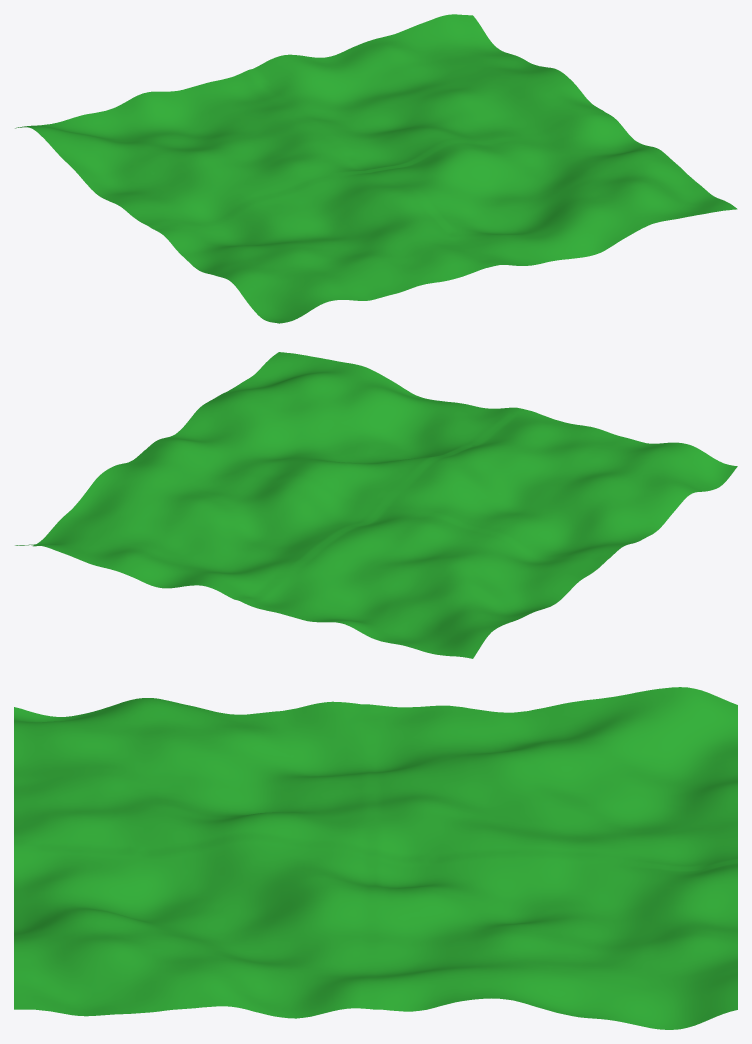
The picture shows the model from 3 angles, top to bottom: view 1: azimuth 30°, elevation 25°; view 2: azimuth 150°, elevation 25°; view 3: azimuth 270°, elevation 25°; orthographic projection. The views are drawn at different scales.
Parts seen in each view (by area): view 1: Grid; view 2: Grid; view 3: Grid.
Part boxes in pixels (x1=…): Grid: x1=15, y1=14, x2=737, y2=323; Grid: x1=15, y1=352, x2=737, y2=658; Grid: x1=14, y1=687, x2=737, y2=1029.
Bounding box in the file's own units: 100 × 6.78 × 100.
